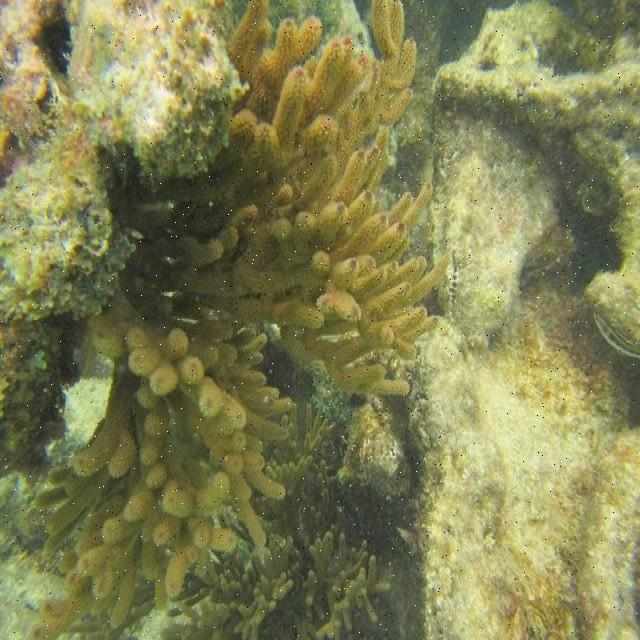reefs: (28, 0, 446, 637), (162, 403, 391, 639)
